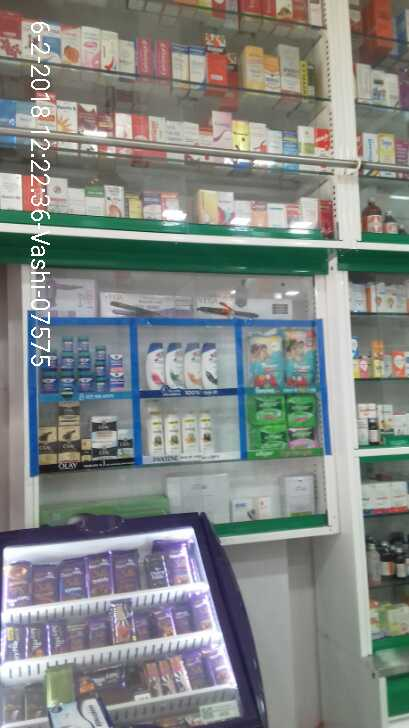beauty: (145, 340, 166, 392), (200, 341, 222, 390), (197, 409, 217, 453), (163, 412, 183, 456), (183, 343, 202, 389), (166, 342, 184, 390), (147, 412, 166, 454), (58, 425, 80, 460), (180, 410, 198, 451), (39, 428, 59, 463), (91, 416, 118, 441), (91, 440, 117, 459), (119, 427, 133, 457), (60, 404, 80, 424), (81, 438, 92, 464)
pharmacy: (244, 334, 285, 389), (282, 329, 317, 388), (245, 394, 288, 427), (285, 394, 320, 428), (246, 426, 288, 450), (287, 427, 320, 447), (40, 369, 58, 392), (60, 371, 77, 392), (77, 373, 94, 393), (75, 353, 92, 370), (60, 353, 75, 372), (76, 336, 91, 351), (94, 377, 108, 393), (93, 360, 107, 375), (61, 335, 73, 352), (93, 344, 106, 358)
